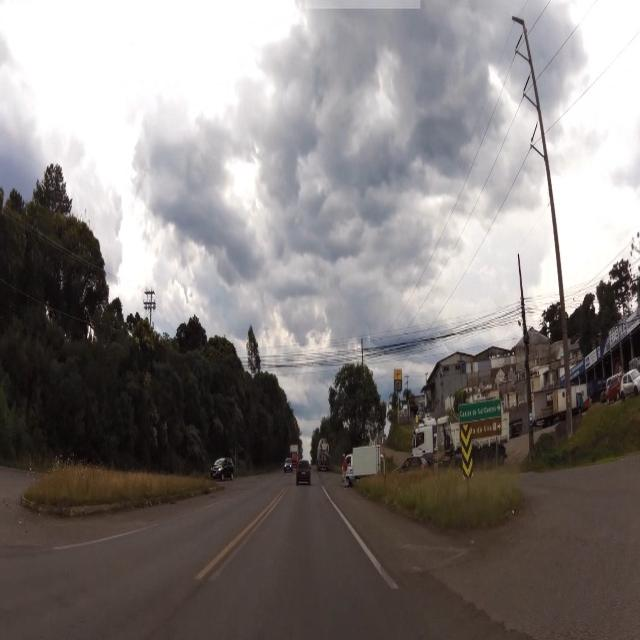MP: (462, 426, 472, 479)
